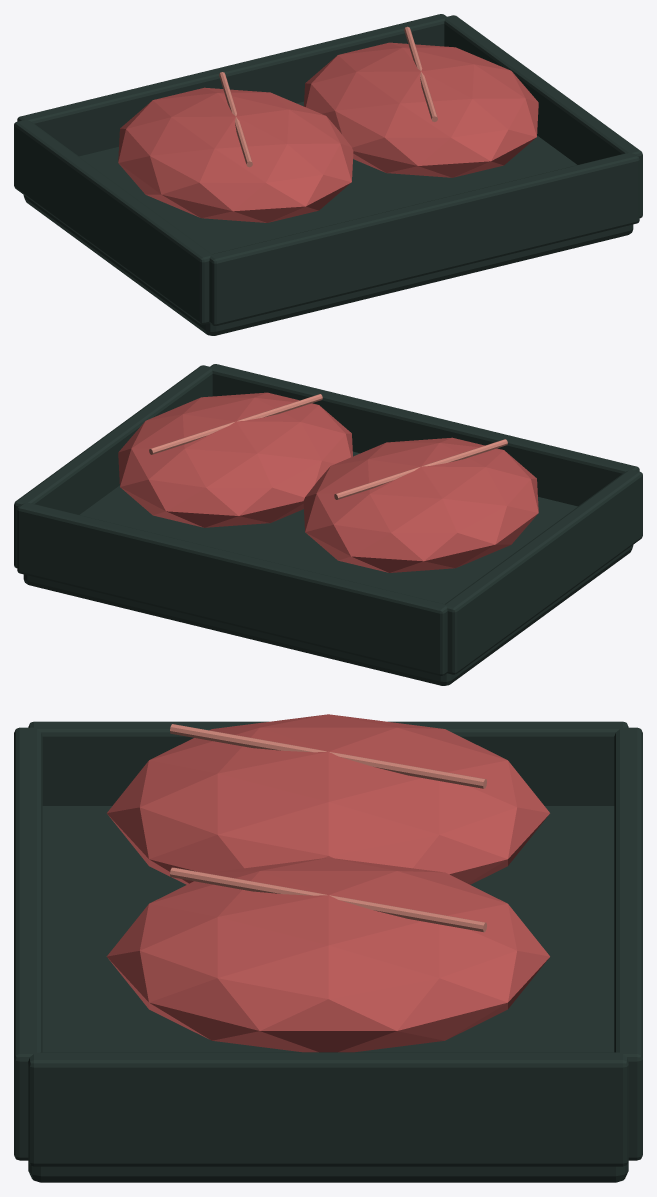
Rendered from tuna.fbx.
The picture shows the model from 3 angles, top to bottom: view 1: azimuth 30°, elevation 25°; view 2: azimuth 150°, elevation 25°; view 3: azimuth 270°, elevation 25°; orthographic projection. The views are drawn at different scales.
Parts seen in each view (by area): view 1: tuna; view 2: tuna; view 3: tuna.
Part boxes in pixels (left/top/right/bottom): tuna: left=14, top=14, right=642, bottom=335; tuna: left=14, top=364, right=642, bottom=685; tuna: left=14, top=714, right=642, bottom=1182.
Bounding box in the file's own units: 31.1 × 8.4 × 24.1.
